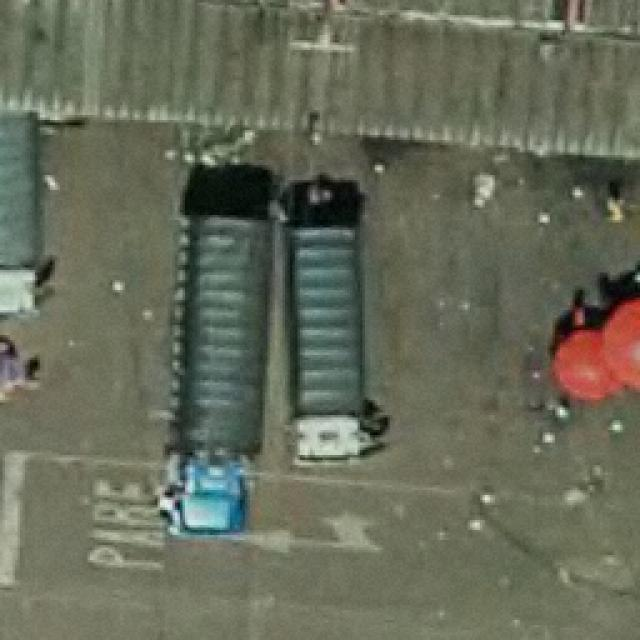vendedor_ambulante: (543, 316, 623, 406), (604, 286, 640, 396)
